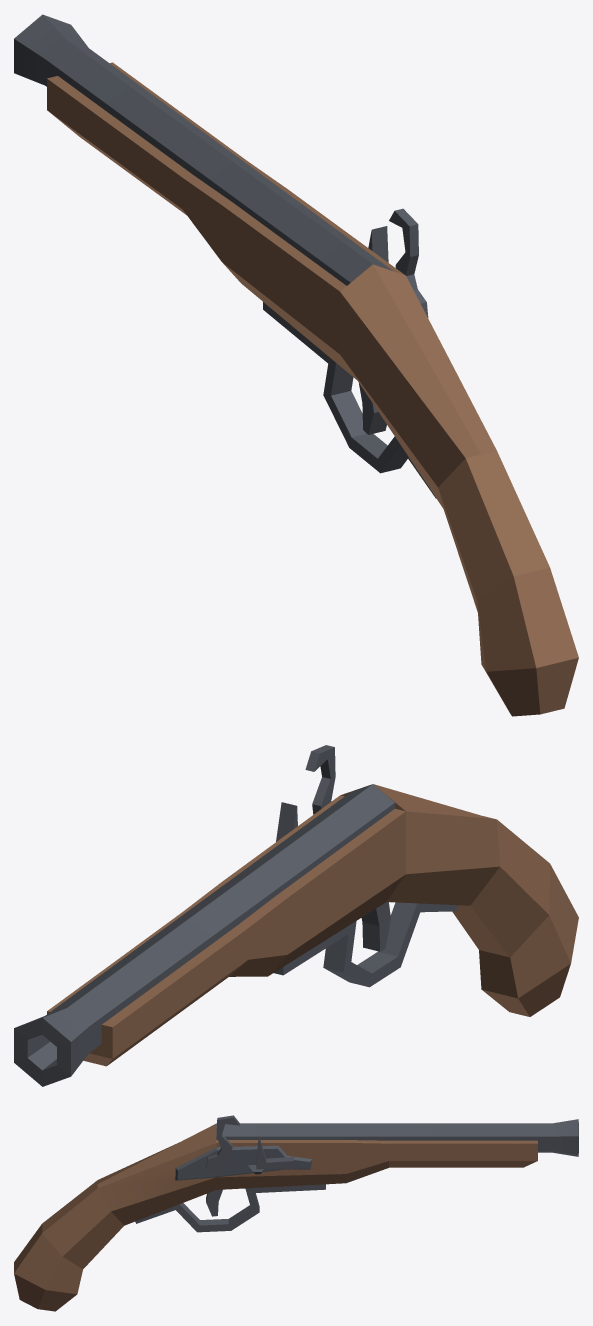
File: Pistol.fbx
3 views of the same model, one above another, from view 1: azimuth 30°, elevation 25°; view 2: azimuth 150°, elevation 25°; view 3: azimuth 270°, elevation 25° (orthographic). The views are drawn at different scales.
Visible parts, largest first — view 1: Pistol; view 2: Pistol; view 3: Pistol.
Boxes of the visible parts, x1,y1,x2,y2 form: Pistol: (14, 14, 578, 716); Pistol: (14, 745, 578, 1086); Pistol: (14, 1115, 578, 1311).
Bounding box in the file's own units: 0.0806 × 0.6838 × 0.2716.
